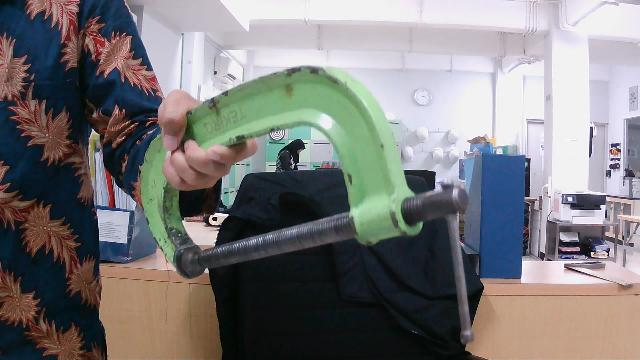tekiro_c_clamp: (135, 58, 485, 348)
